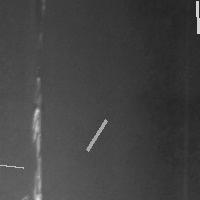scratches: (28, 76, 45, 200), (82, 115, 111, 155), (0, 153, 28, 173), (192, 0, 200, 38)
